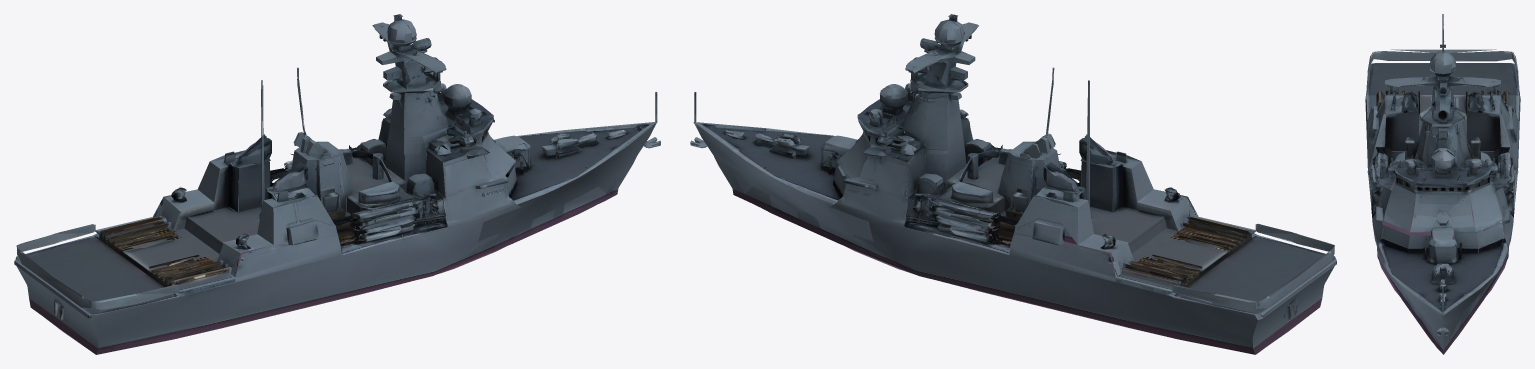
File: corsair_LOD1.glb
The picture shows the model from 3 angles, left to right: view 1: azimuth 30°, elevation 25°; view 2: azimuth 150°, elevation 25°; view 3: azimuth 270°, elevation 25°; orthographic projection. The views are drawn at different scales.
Parts seen in each view (by area): view 1: corsair_LOD1; view 2: corsair_LOD1; view 3: corsair_LOD1.
Part boxes in pixels (x1,y1,x2,y2): corsair_LOD1: (14,14,660,354); corsair_LOD1: (690,14,1336,354); corsair_LOD1: (1365,14,1520,354).
Size of the model in its own units: 1 by 0.3681 by 0.2437.
1 material, 1 textured.
